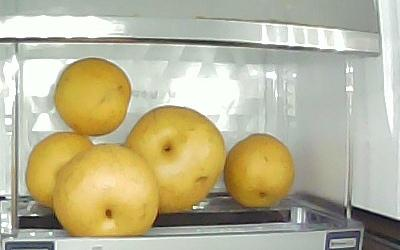pear: (125, 105, 227, 214), (52, 144, 158, 237), (53, 57, 132, 138), (24, 132, 101, 209), (226, 133, 296, 209)
